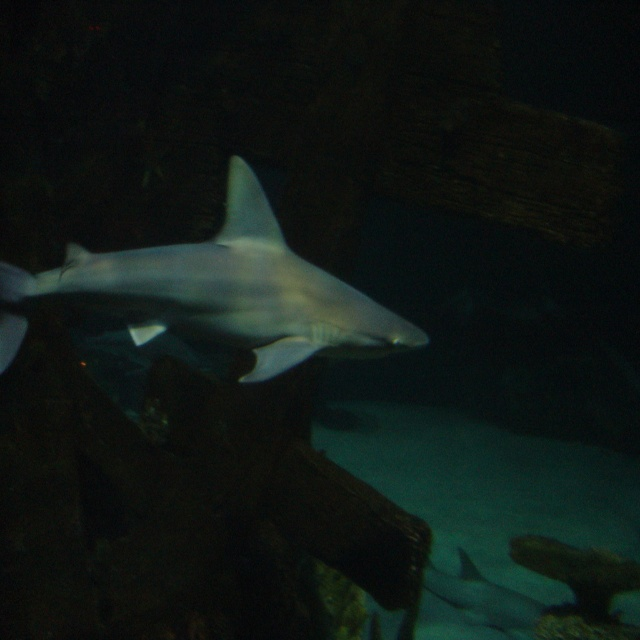Shark: (0, 155, 429, 379)
